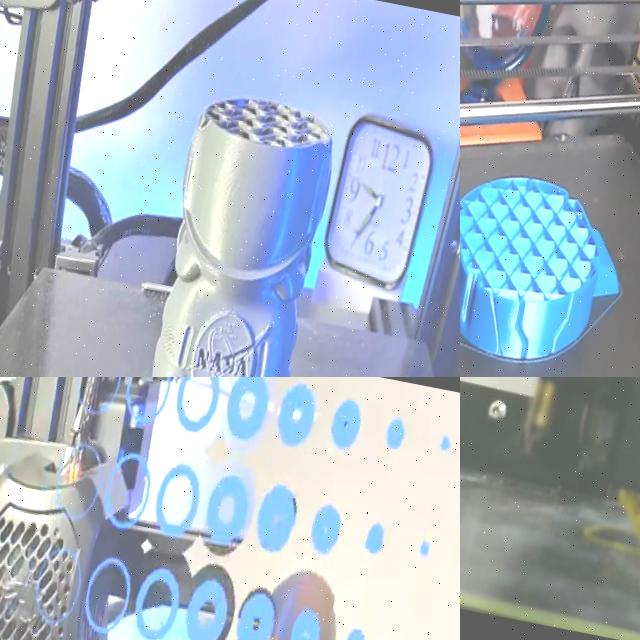spaghetti: (587, 482, 640, 568)
